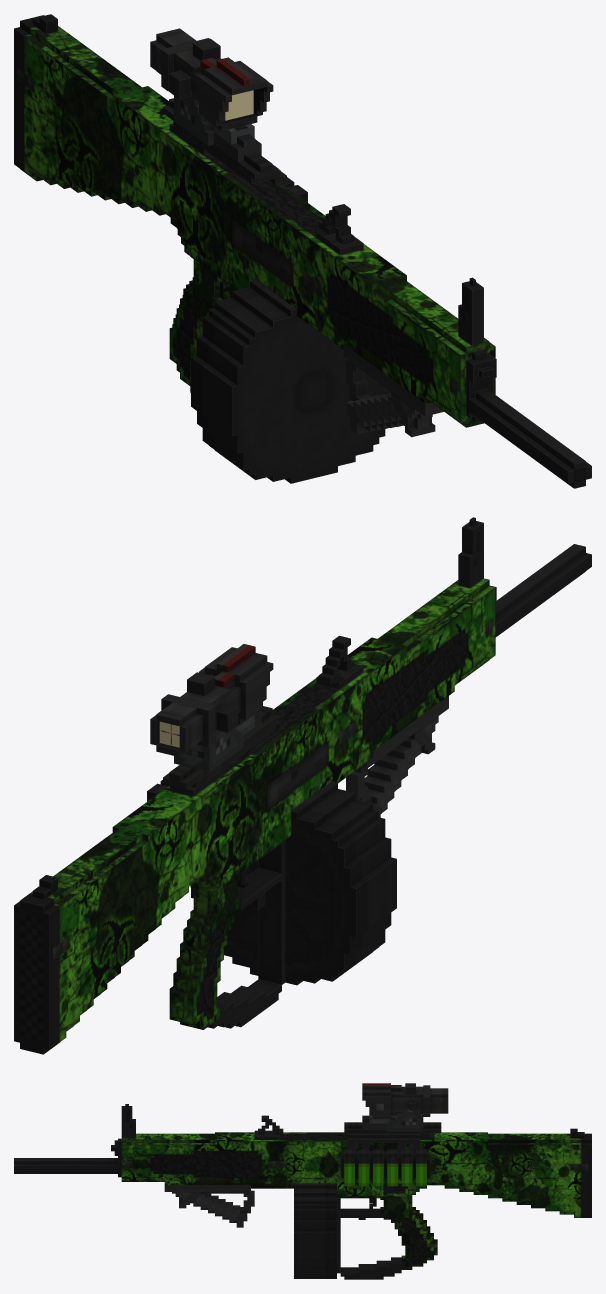
The model's file is RD_ZAA12.glb.
3 renders of one model, top to bottom at view 1: azimuth 30°, elevation 25°; view 2: azimuth 150°, elevation 25°; view 3: azimuth 270°, elevation 25°, orthographic. The views are drawn at different scales.
Parts seen in each view (by area): view 1: AA12, AA12_CLIP, SCOPE_ACOG, GRIP2, AA12_PLANK (×2), AA12_SIIGHTS, SCOPE_EOTECH, AA12_BOLT; view 2: AA12, AA12_CLIP, SCOPE_ACOG, GRIP2, AA12_SIIGHTS, AA12_PLANK, SCOPE_EOTECH, AA12_BOLT; view 3: AA12, AA12_CLIP, SCOPE_ACOG, GRIP2, AA12_PLANK, SCOPE_EOTECH, AA12_SIIGHTS, AA12_BOLT.
Part boxes in pixels (x1,y1,x2,y2): AA12: [14, 14, 591, 488]; AA12_CLIP: [191, 279, 391, 483]; SCOPE_ACOG: [150, 28, 273, 161]; GRIP2: [343, 344, 443, 437]; AA12_PLANK (×2): [163, 98, 286, 187]; AA12_SIIGHTS: [169, 121, 483, 345]; SCOPE_EOTECH: [174, 90, 254, 145]; AA12_BOLT: [316, 204, 363, 255]; AA12: [14, 544, 591, 1054]; AA12_CLIP: [191, 781, 396, 985]; SCOPE_ACOG: [150, 644, 273, 757]; GRIP2: [346, 696, 448, 817]; AA12_SIIGHTS: [169, 517, 483, 796]; AA12_PLANK: [163, 706, 278, 789]; SCOPE_EOTECH: [174, 714, 254, 771]; AA12_BOLT: [316, 635, 363, 689]; AA12: [14, 1128, 591, 1279]; AA12_CLIP: [294, 1183, 336, 1278]; SCOPE_ACOG: [362, 1083, 448, 1129]; GRIP2: [164, 1185, 254, 1227]; AA12_PLANK: [344, 1122, 441, 1155]; SCOPE_EOTECH: [369, 1109, 423, 1131]; AA12_SIIGHTS: [121, 1104, 433, 1139]; AA12_BOLT: [254, 1115, 283, 1139].
Bounding box in the file's own units: 0.2756 × 0.5807 × 1.58.
Materials: 6 (6 with a texture image).
